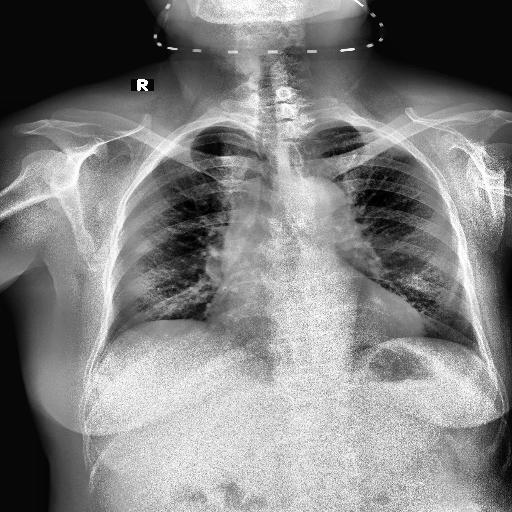0- Aortic enlargement: (282, 178, 362, 240), (274, 176, 348, 240), (286, 178, 356, 238)
3- Cardiomegaly: (200, 282, 426, 342), (202, 296, 426, 352), (200, 292, 424, 348)
